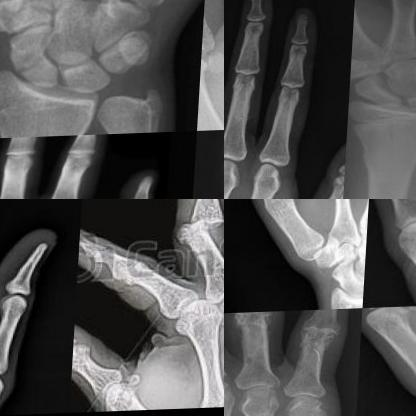fracture: (350, 100, 415, 142), (168, 206, 223, 250), (133, 86, 174, 130)
